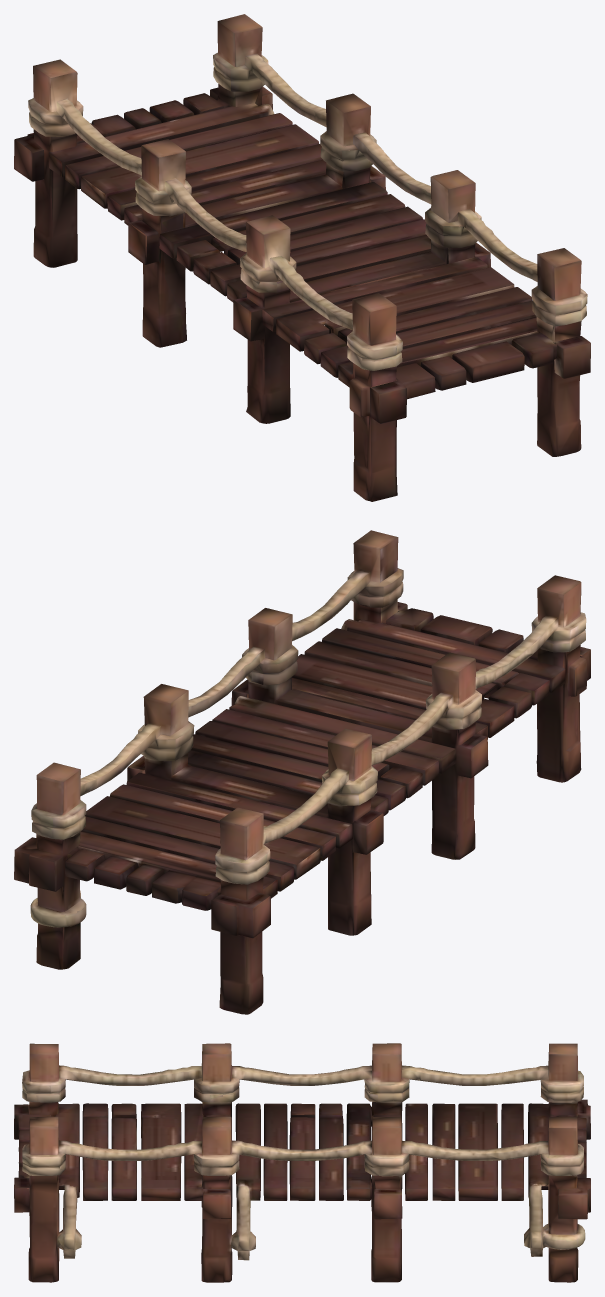
The model's file is jetty.glb.
3 renders of one model, top to bottom at view 1: azimuth 30°, elevation 25°; view 2: azimuth 150°, elevation 25°; view 3: azimuth 270°, elevation 25°, orthographic. The views are drawn at different scales.
Parts seen in each view (by area): view 1: node_0; view 2: node_0; view 3: node_0.
Boxes of the visible parts, box(x1,y1,x2,y2) form: node_0: box(14, 14, 590, 501); node_0: box(14, 530, 590, 1014); node_0: box(14, 1043, 590, 1282).
Size of the model in its own units: 0.4426 by 0.3338 by 1.13.
Materials: 1 (1 with a texture image).
